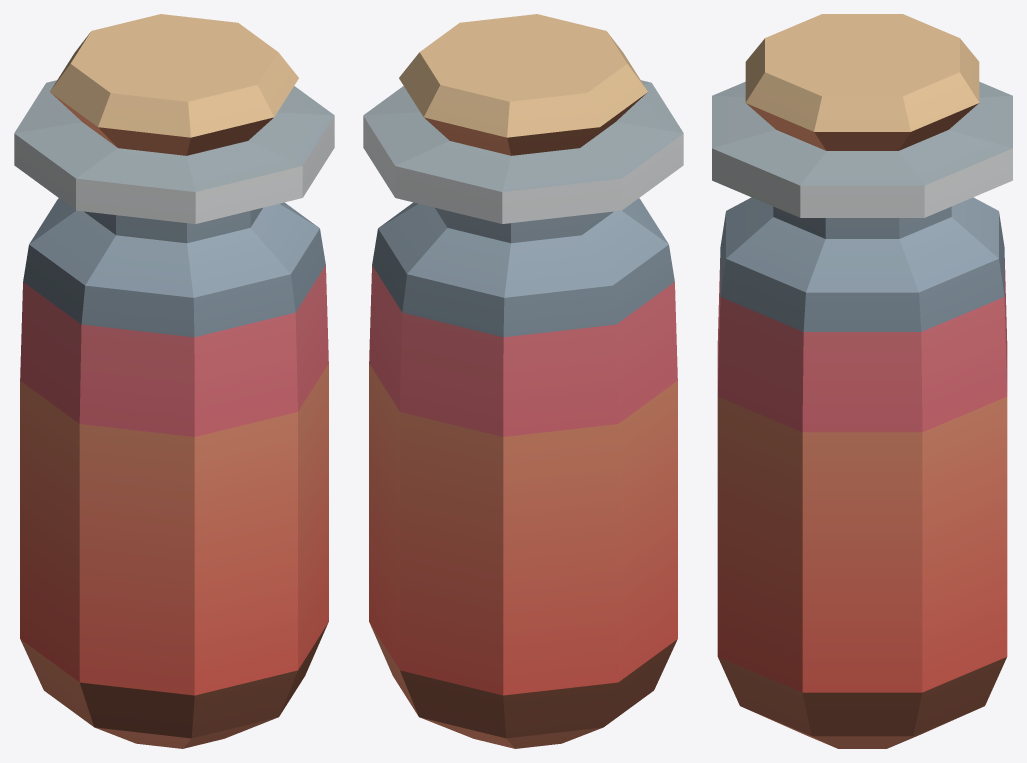
Rendered from potion_small_coral.glb.
3 views of the same model, side by side, from view 1: azimuth 30°, elevation 25°; view 2: azimuth 150°, elevation 25°; view 3: azimuth 270°, elevation 25° (orthographic).
Visible parts, largest first — view 1: model; view 2: model; view 3: model.
Part boxes in pixels (<box>): model: <box>14,14,334,748</box>; model: <box>363,14,683,748</box>; model: <box>712,14,1012,748</box>.
Size of the model in its own units: 0.22 by 0.54 by 0.22.
1 material, 1 textured.
